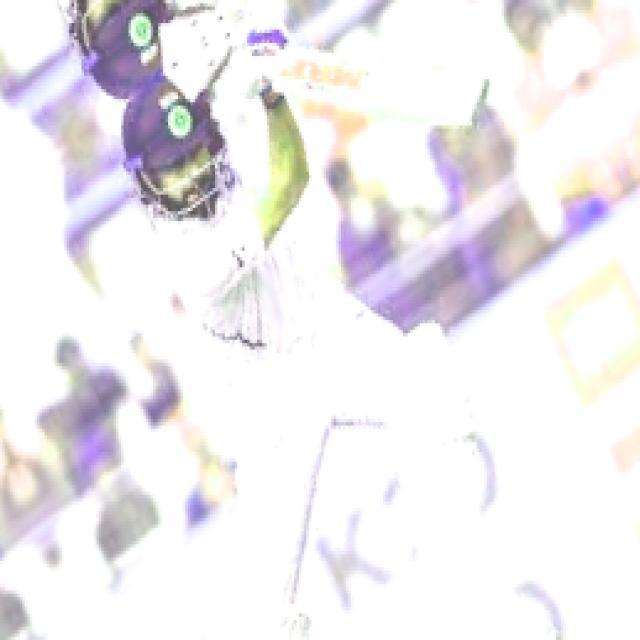bat: (234, 29, 530, 143)
toe: (457, 75, 493, 135)
